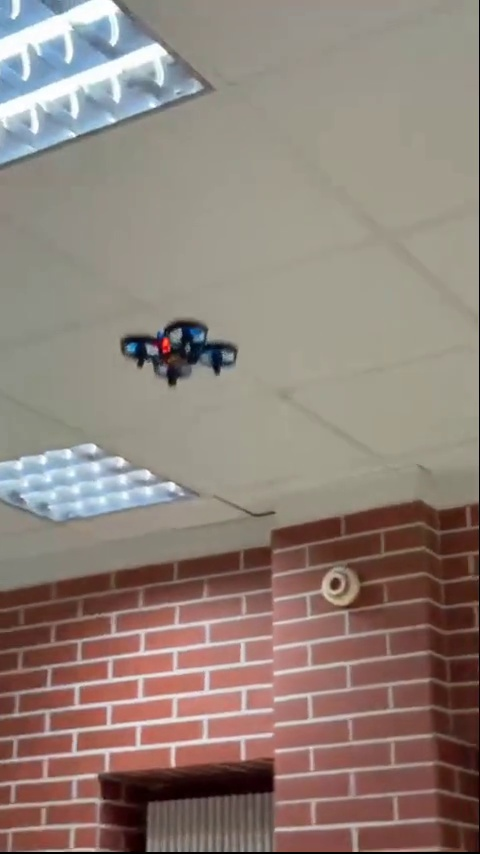drone: (122, 314, 240, 391)
